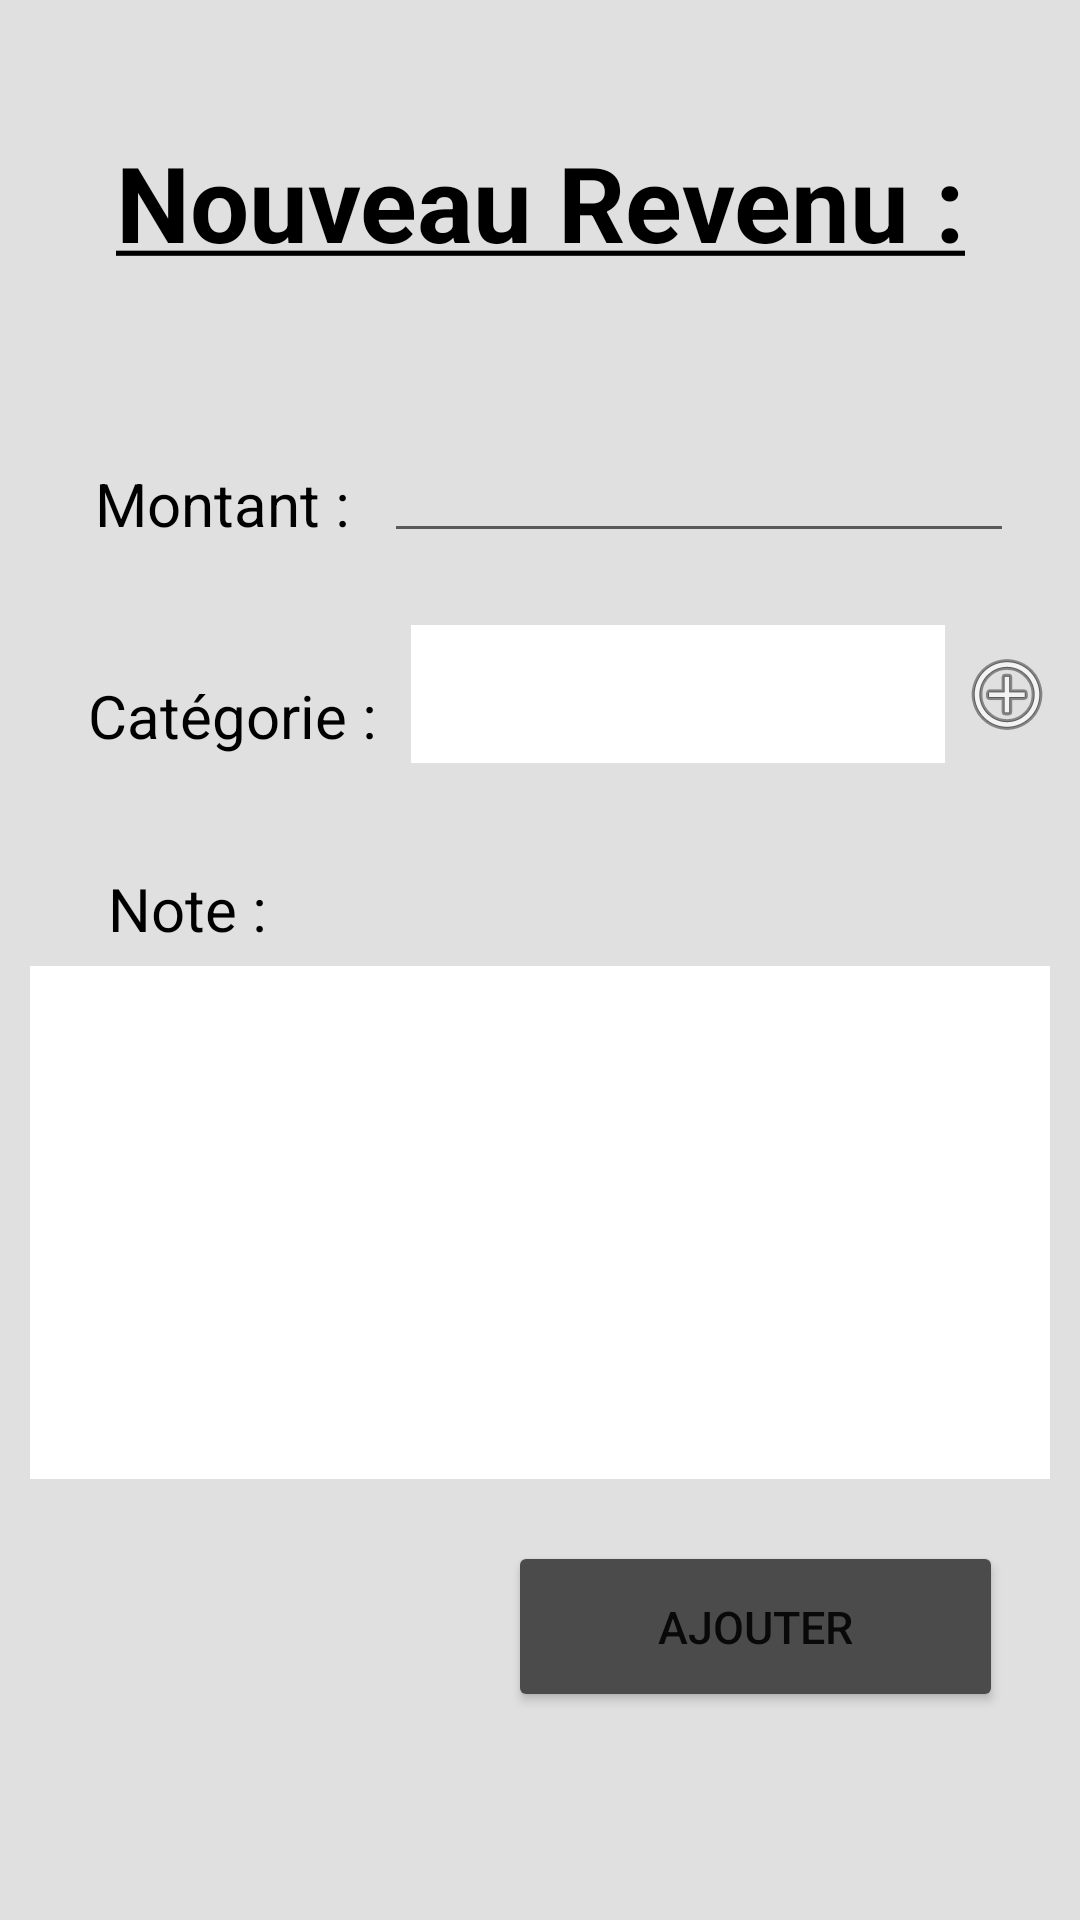

Locate icon controls on the screen. Image size 1080 × 1920, boxes as (x1, y1, x2, y2).
add: (971, 659, 1043, 730)
